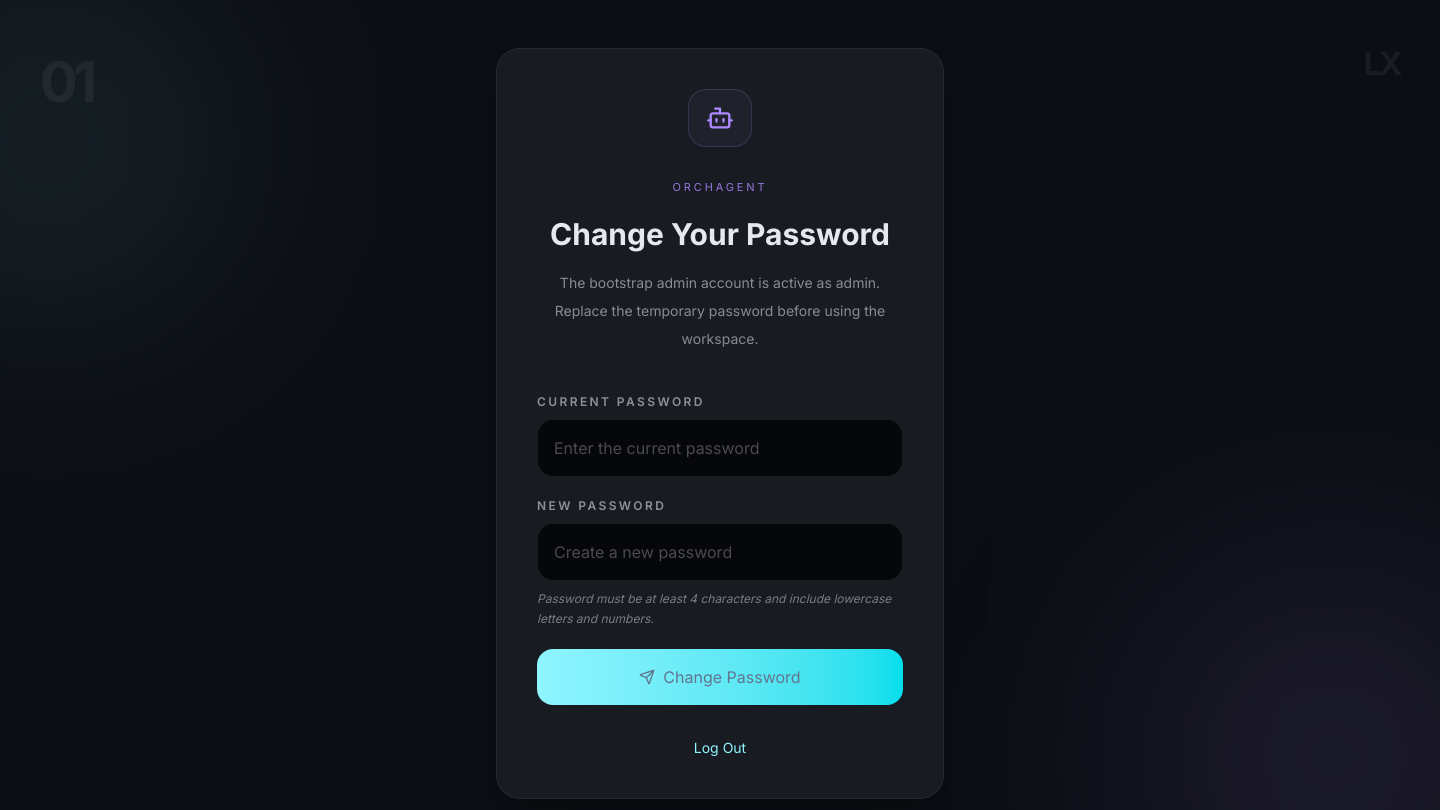
Scenario: must-change-password flow unlocks the workspace after success
The width and height of the screenshot is (1440, 810).
In the password field labelled "Current Password": (720, 448) [537,418,903,476], type "admin1"
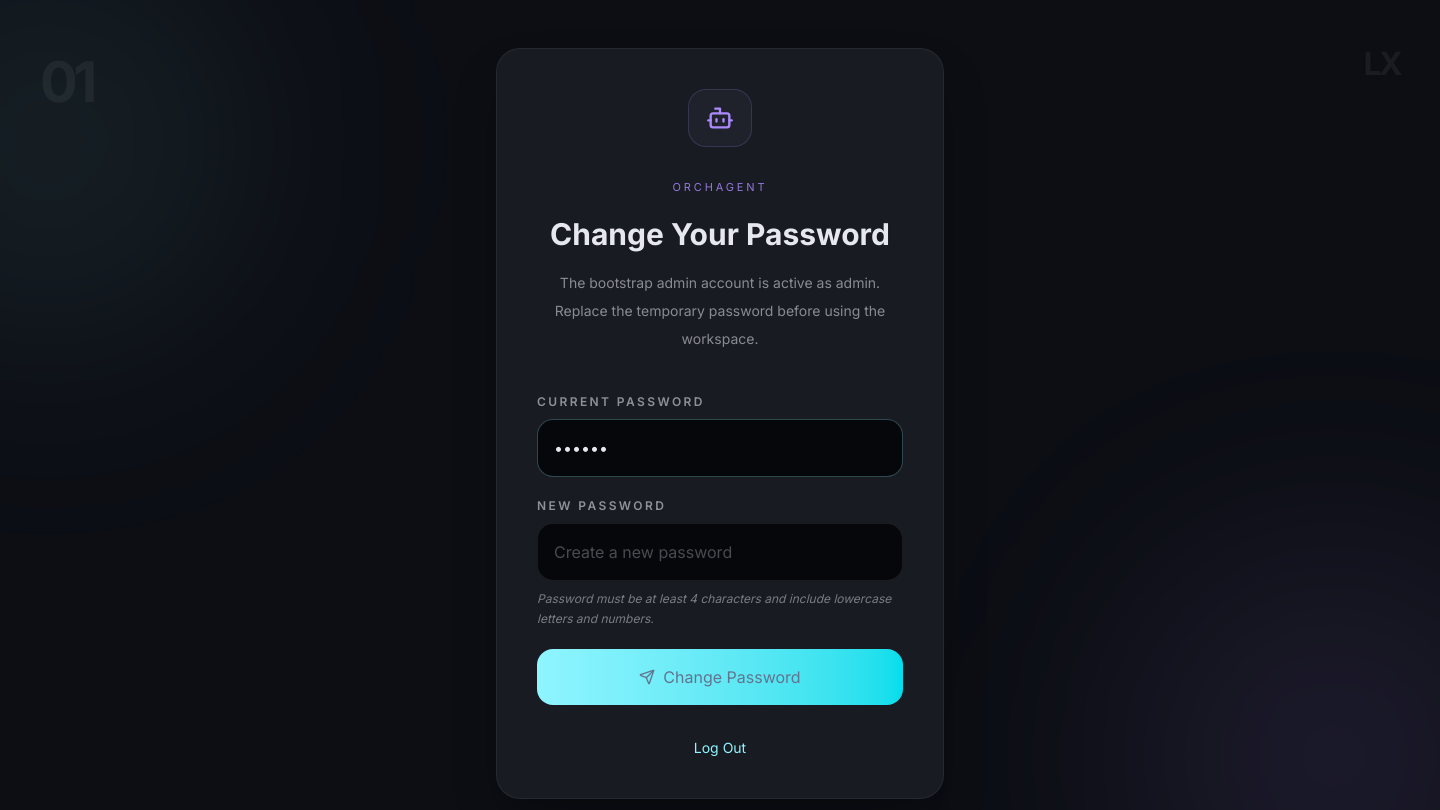
In the password field labelled "New Password": (720, 552) [537,522,903,580], type "abcdefghijklmn2"
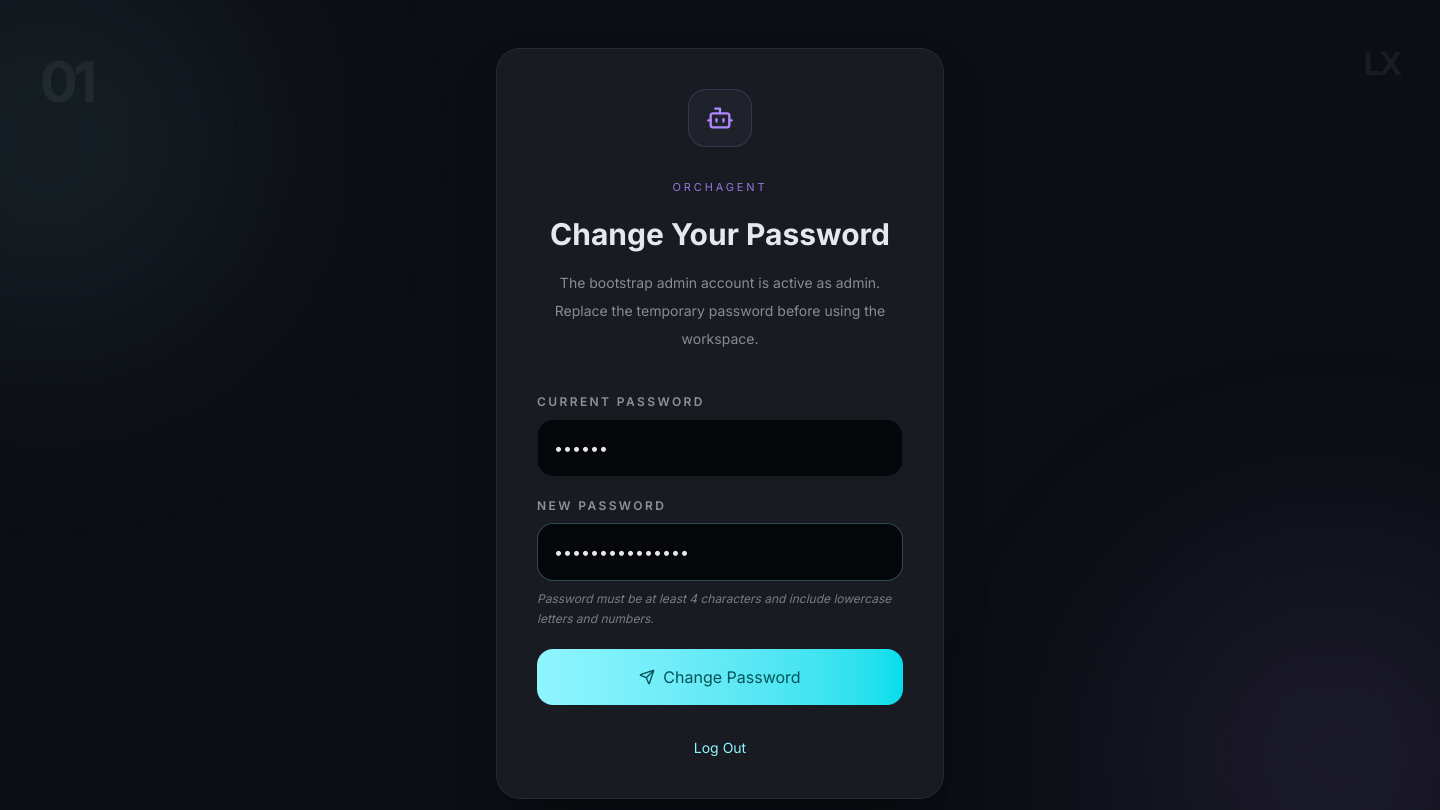
Click the button "Change Password": (720, 676) [537,648,903,704]
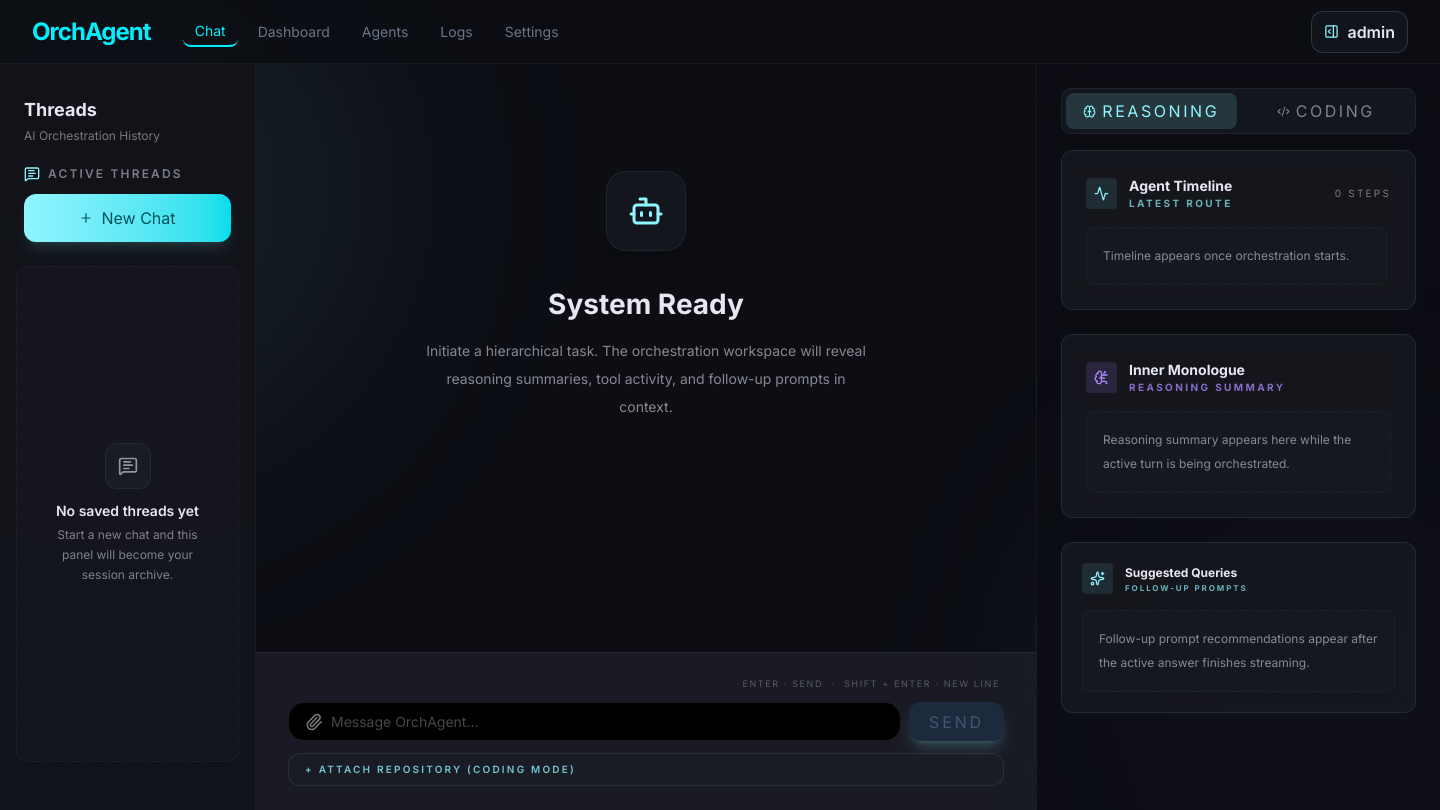
Result: the heading "System Ready" is shown at [548,283,744,325]
